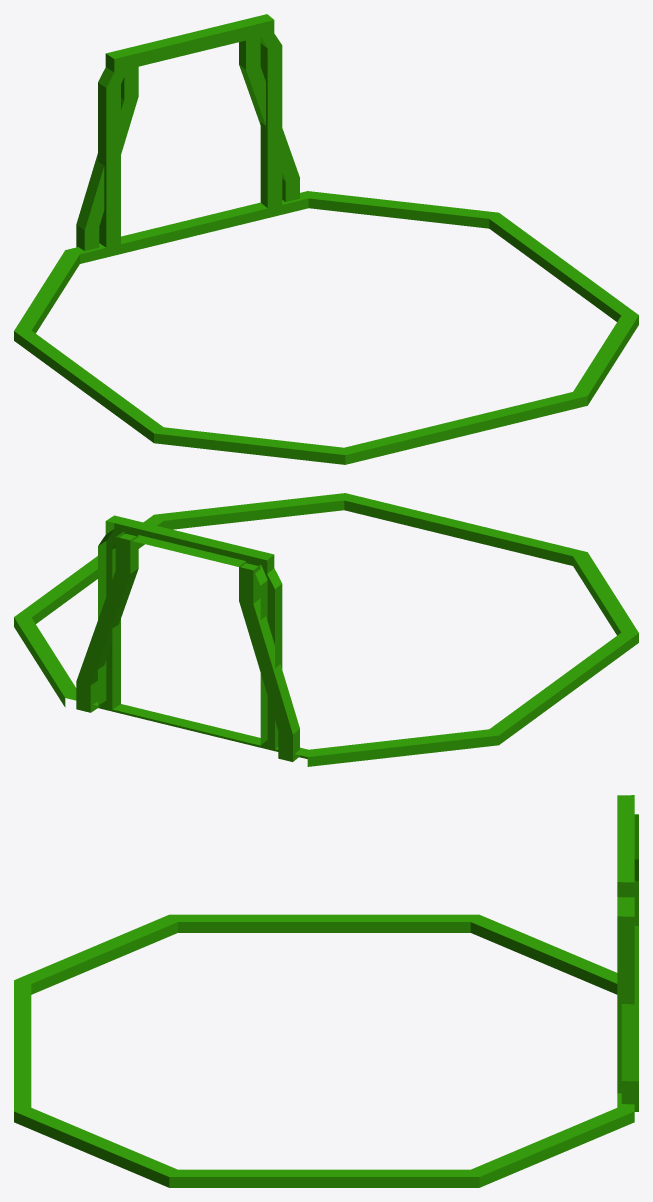
Rendered from Entrance_Door_Lights.fbx.
3 views of the same model, one above another, from view 1: azimuth 30°, elevation 25°; view 2: azimuth 150°, elevation 25°; view 3: azimuth 270°, elevation 25° (orthographic). The views are drawn at different scales.
Parts seen in each view (by area): view 1: Entrance_Light; view 2: Entrance_Light; view 3: Entrance_Light.
Boxes of the visible parts, x1=… form: Entrance_Light: x1=14, y1=14, x2=638, y2=464; Entrance_Light: x1=14, y1=493, x2=638, y2=766; Entrance_Light: x1=14, y1=795, x2=638, y2=1187.
Size of the model in its own units: 0.0763 by 0.0296 by 0.0768.
